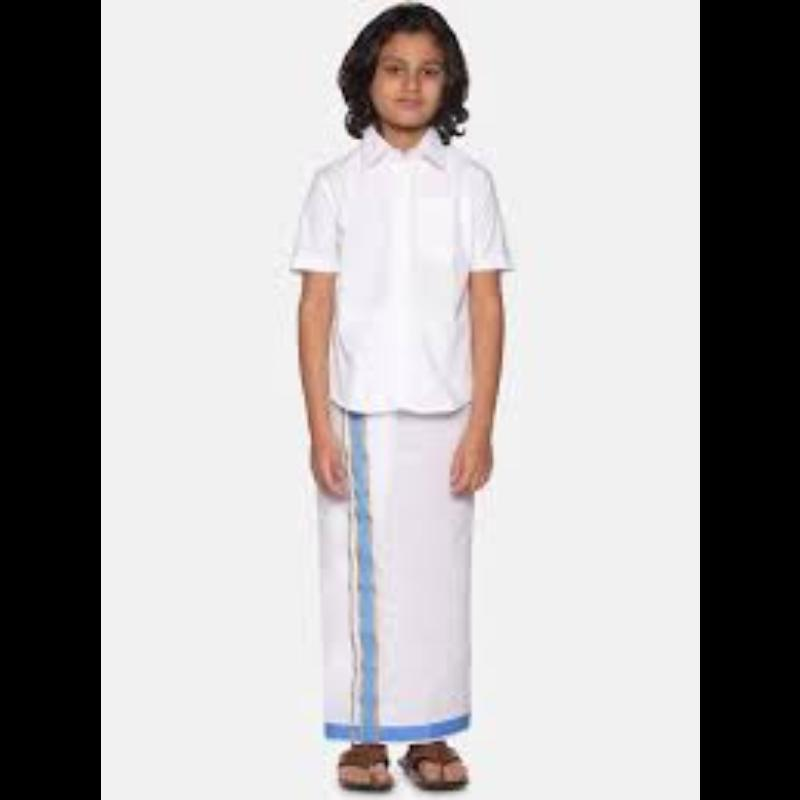Dhoti: (249, 385, 530, 745)
Shirt: (256, 109, 544, 421)
